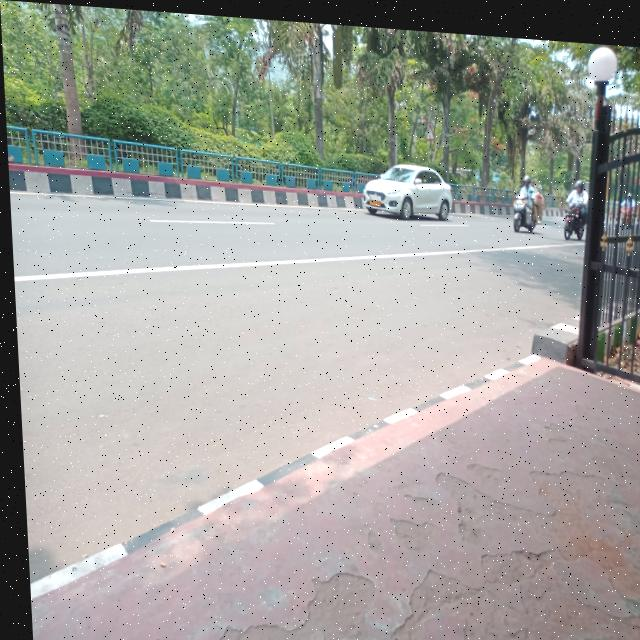bike: (509, 179, 540, 236), (558, 192, 588, 235)
car: (346, 127, 457, 225)
